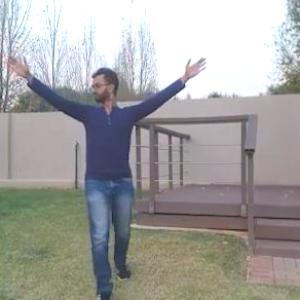takeoff: (3, 53, 207, 293)
